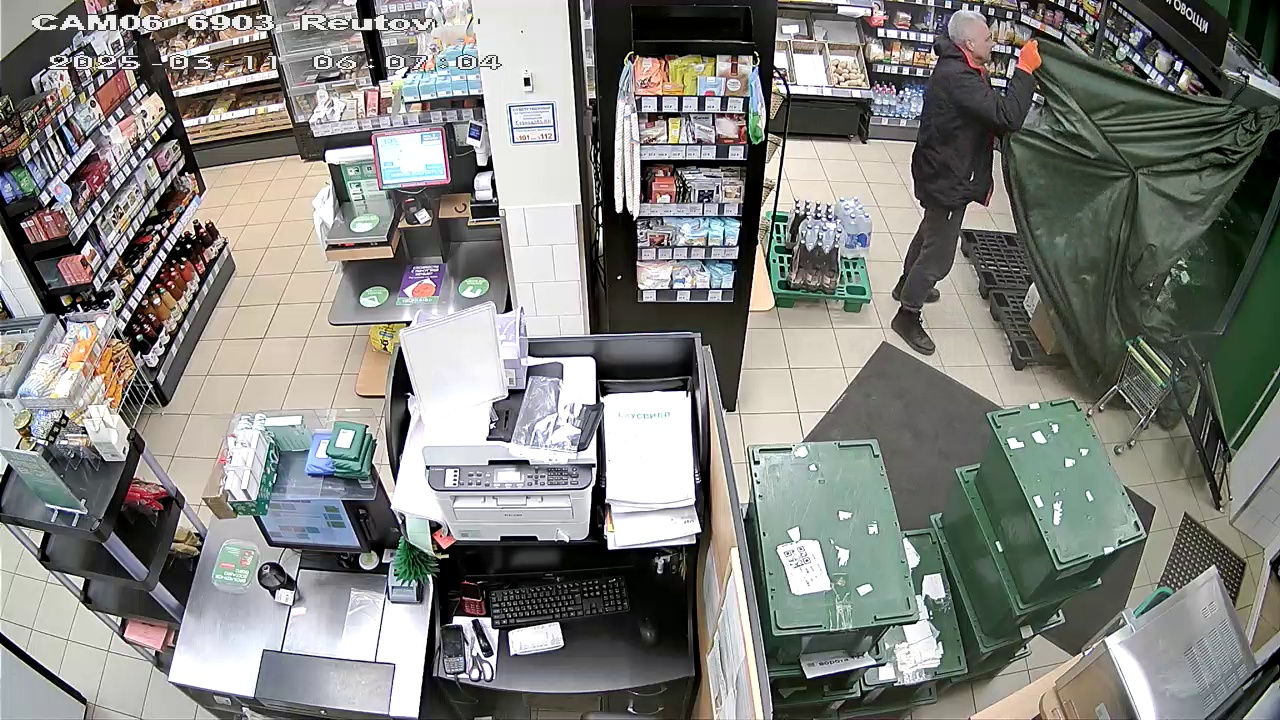Human: (877, 8, 1046, 363)
dome: (1017, 48, 1215, 367)
pallet: (960, 225, 1074, 361)
